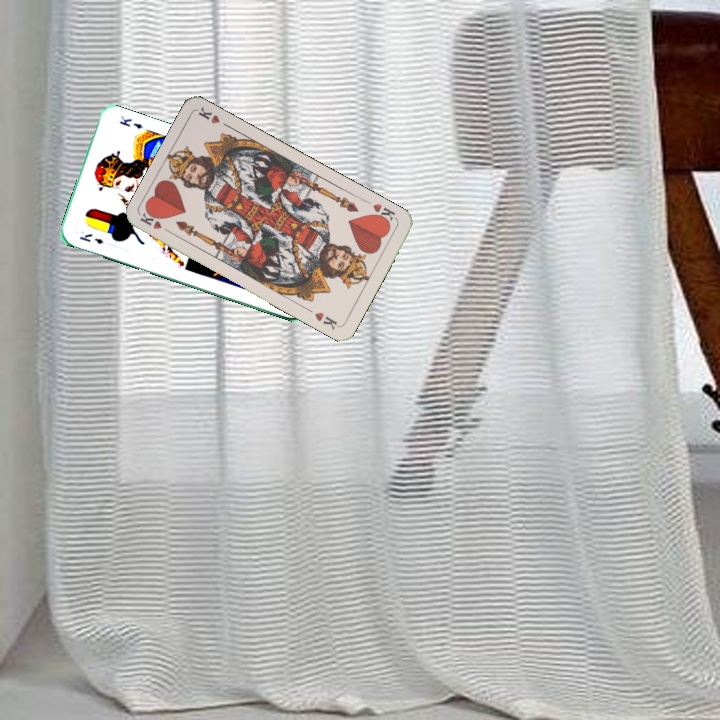EK: (76, 230, 106, 247)
HK: (136, 209, 175, 237), (368, 199, 399, 226)
